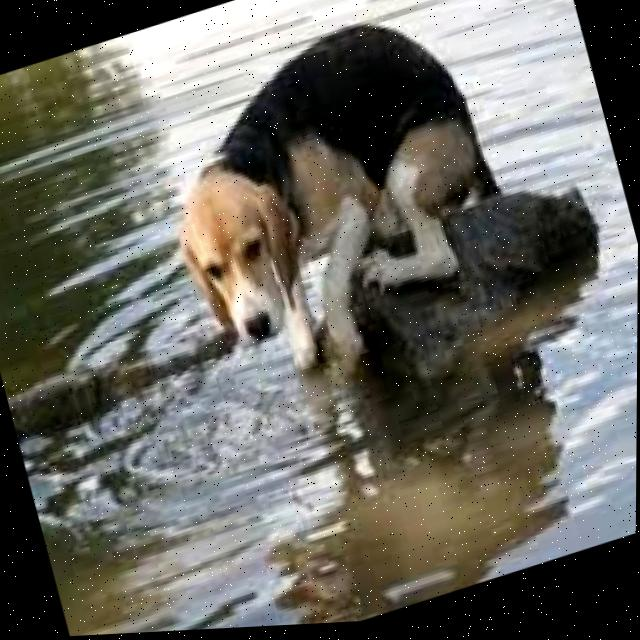dog: (133, 0, 535, 406)
